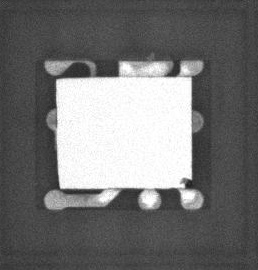DIE_BROKEN: (179, 175, 192, 189), (55, 163, 61, 190)
